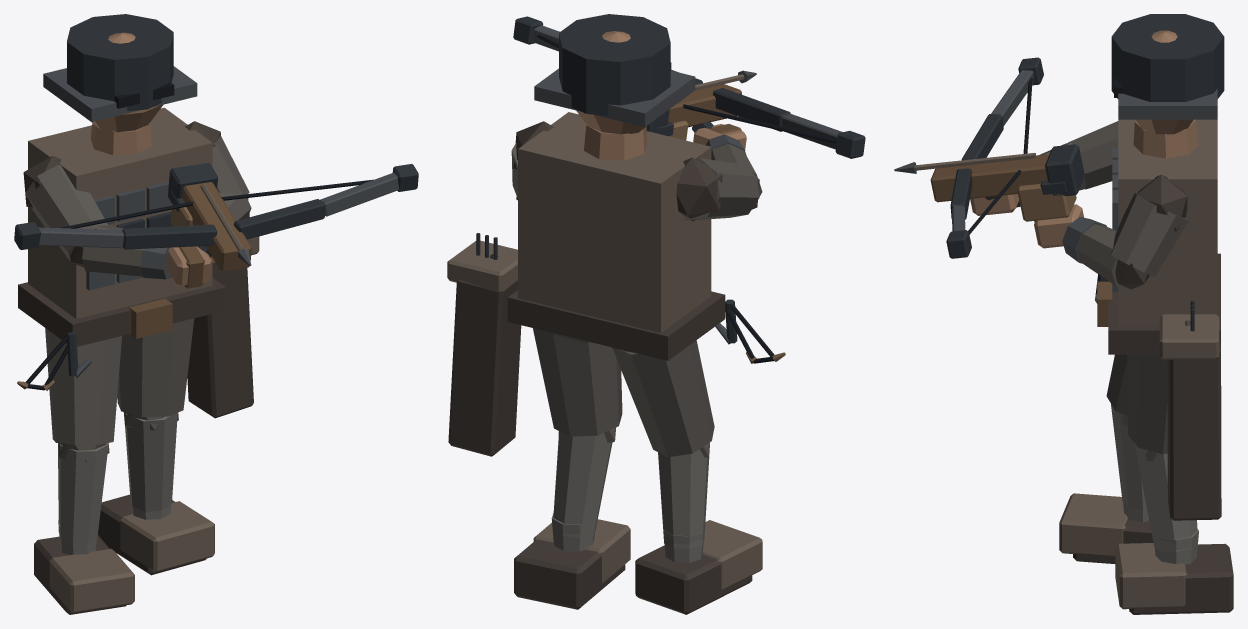
The model's file is chr_f1_crossbowman_pixel_v003.glb.
The picture shows the model from 3 angles, left to right: view 1: azimuth 30°, elevation 25°; view 2: azimuth 150°, elevation 25°; view 3: azimuth 270°, elevation 25°; orthographic projection. The views are drawn at different scales.
Parts seen in each view (by area): view 1: CHR_F1_Crossbowman_V003_Torso, CHR_F1_Crossbowman_V003_HelmetBowl, PROP_V003_BoltCaseBody, BDY_V003_Thigh_L, BDY_V003_Thigh_R, CHR_F1_Crossbowman_V003_Belt, BDY_V003_BootToe_R, BDY_V003_BootToe_L, BDY_V003_Shin_R, BDY_V003_Shin_L, BDY_V003_UpperArm_L, WPN_V003_CrossbowStock (+24 smaller); view 2: CHR_F1_Crossbowman_V003_Torso, PROP_V003_BoltCaseBody, CHR_F1_Crossbowman_V003_HelmetBowl, BDY_V003_Thigh_L, BDY_V003_Thigh_R, CHR_F1_Crossbowman_V003_Belt, BDY_V003_Boot_R, BDY_V003_Shin_R, BDY_V003_Boot_L, BDY_V003_Shin_L, CHR_F1_Crossbowman_V003_HelmetBrim, BDY_V003_BootToe_L (+15 smaller); view 3: CHR_F1_Crossbowman_V003_Torso, PROP_V003_BoltCaseBody, CHR_F1_Crossbowman_V003_HelmetBowl, BDY_V003_BootToe_R, BDY_V003_Thigh_R, BDY_V003_UpperArm_R, BDY_V003_BootToe_L, BDY_V003_Boot_R, WPN_V003_CrossbowStock, BDY_V003_Shin_R, PROP_V003_BoltCaseLid, CHR_F1_Crossbowman_V003_Belt (+22 smaller).
Part boxes in pixels (bbox=[...]): CHR_F1_Crossbowman_V003_Torso: bbox=[28, 107, 212, 318]; CHR_F1_Crossbowman_V003_HelmetBowl: bbox=[67, 14, 173, 111]; PROP_V003_BoltCaseBody: bbox=[187, 264, 253, 418]; BDY_V003_Thigh_L: bbox=[45, 328, 121, 444]; BDY_V003_Thigh_R: bbox=[117, 318, 194, 416]; CHR_F1_Crossbowman_V003_Belt: bbox=[18, 278, 225, 346]; BDY_V003_BootToe_R: bbox=[120, 501, 214, 572]; BDY_V003_BootToe_L: bbox=[49, 548, 134, 613]; BDY_V003_Shin_R: bbox=[125, 413, 177, 511]; BDY_V003_Shin_L: bbox=[58, 443, 108, 543]; BDY_V003_UpperArm_L: bbox=[25, 165, 107, 263]; WPN_V003_CrossbowStock: bbox=[182, 182, 251, 271]; CHR_F1_Crossbowman_V003_Torso: bbox=[518, 112, 711, 332]; PROP_V003_BoltCaseBody: bbox=[448, 279, 521, 456]; CHR_F1_Crossbowman_V003_HelmetBowl: bbox=[559, 14, 670, 115]; BDY_V003_Thigh_L: bbox=[613, 340, 714, 457]; BDY_V003_Thigh_R: bbox=[533, 328, 622, 436]; CHR_F1_Crossbowman_V003_Belt: bbox=[507, 290, 725, 360]; BDY_V003_Boot_R: bbox=[514, 539, 625, 609]; BDY_V003_Shin_R: bbox=[553, 428, 613, 537]; BDY_V003_Boot_L: bbox=[635, 545, 752, 614]; BDY_V003_Shin_L: bbox=[658, 444, 709, 548]; CHR_F1_Crossbowman_V003_HelmetBrim: bbox=[534, 68, 695, 126]; BDY_V003_BootToe_L: bbox=[702, 520, 762, 589]; CHR_F1_Crossbowman_V003_Torso: bbox=[1118, 119, 1217, 326]; PROP_V003_BoltCaseBody: bbox=[1167, 339, 1221, 520]; CHR_F1_Crossbowman_V003_HelmetBowl: bbox=[1111, 14, 1224, 101]; BDY_V003_BootToe_R: bbox=[1115, 543, 1187, 609]; BDY_V003_Thigh_R: bbox=[1127, 354, 1167, 453]; BDY_V003_UpperArm_R: bbox=[1110, 193, 1188, 276]; BDY_V003_BootToe_L: bbox=[1059, 493, 1127, 555]; BDY_V003_Boot_R: bbox=[1129, 543, 1233, 614]; WPN_V003_CrossbowStock: bbox=[930, 154, 1049, 202]; BDY_V003_Shin_R: bbox=[1134, 443, 1198, 551]; PROP_V003_BoltCaseLid: bbox=[1159, 314, 1219, 359]; CHR_F1_Crossbowman_V003_Belt: bbox=[1108, 253, 1220, 354].
Size of the model in its own units: 1.31 by 1.82 by 1.02.
